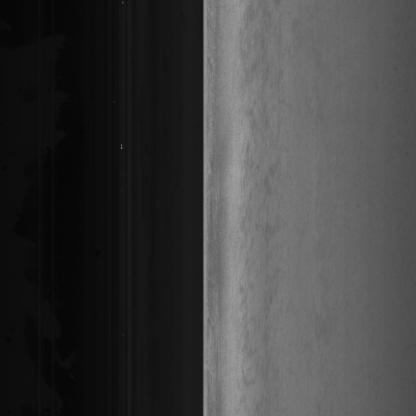silk_spot: (234, 157, 275, 308)
